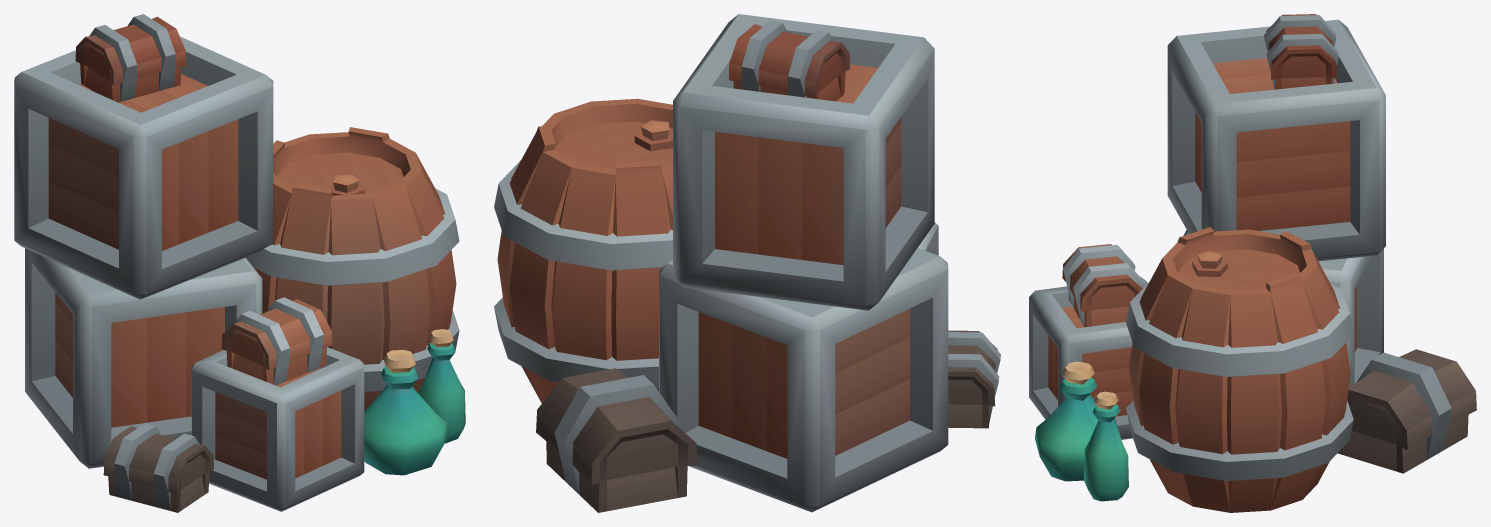
The model's file is kay-caixotes.gltf.
The picture shows the model from 3 angles, left to right: view 1: azimuth 30°, elevation 25°; view 2: azimuth 150°, elevation 25°; view 3: azimuth 270°, elevation 25°; orthographic projection. The views are drawn at different scales.
Parts seen in each view (by area): view 1: box_stacked; view 2: box_stacked; view 3: box_stacked.
Part boxes in pixels (x1,y1,x2,y2): box_stacked: (14, 14, 465, 512); box_stacked: (494, 14, 1000, 512); box_stacked: (1029, 14, 1476, 512).
Size of the model in its own units: 2.26 by 2.15 by 2.36.
Materials: 1 (1 with a texture image).
